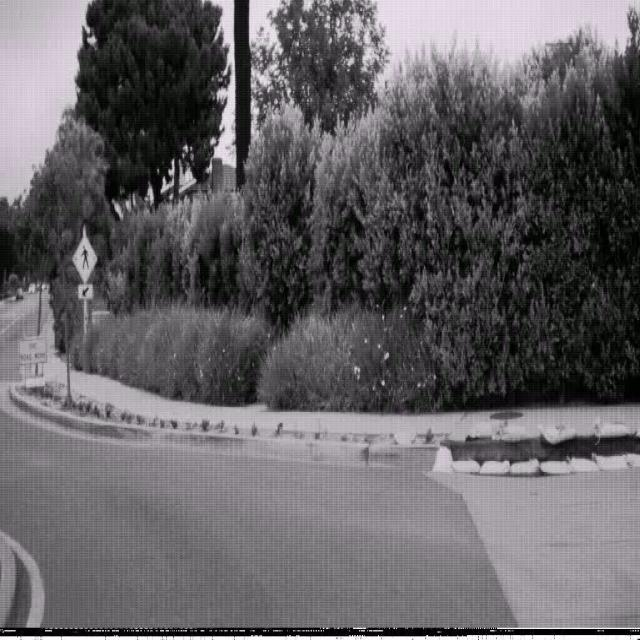pedestrianCrossing: (72, 232, 98, 284)
